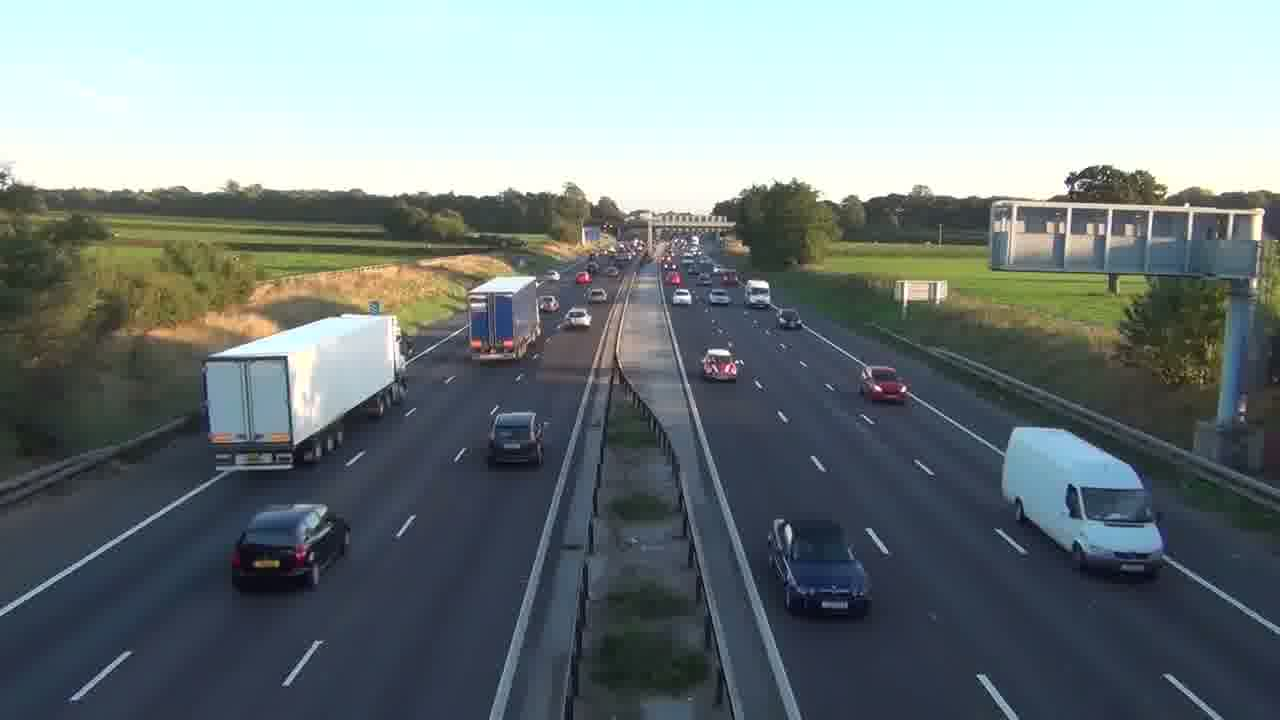bus: (467, 274, 542, 363)
car: (229, 502, 352, 591), (766, 515, 871, 618), (487, 408, 548, 466), (859, 364, 911, 404), (701, 347, 740, 382), (564, 305, 592, 328)
truck: (202, 313, 404, 470), (1001, 425, 1166, 578)
